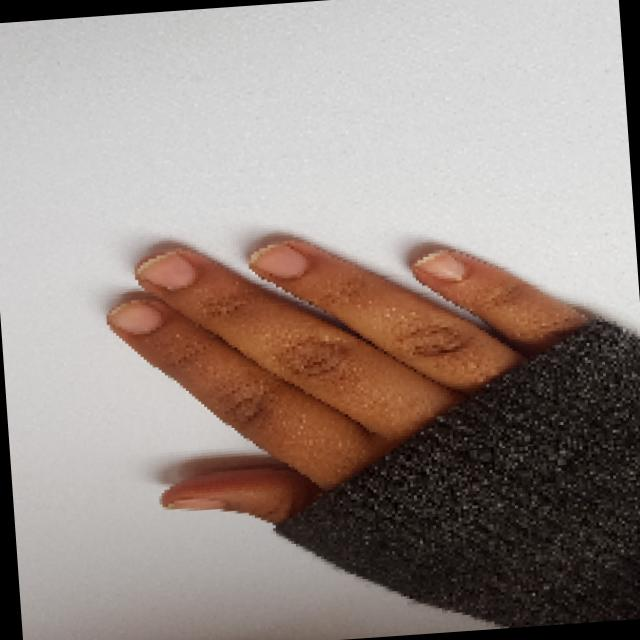Nail: (135, 250, 195, 289), (248, 241, 307, 278), (107, 299, 162, 334), (411, 249, 465, 281), (161, 496, 224, 510)
